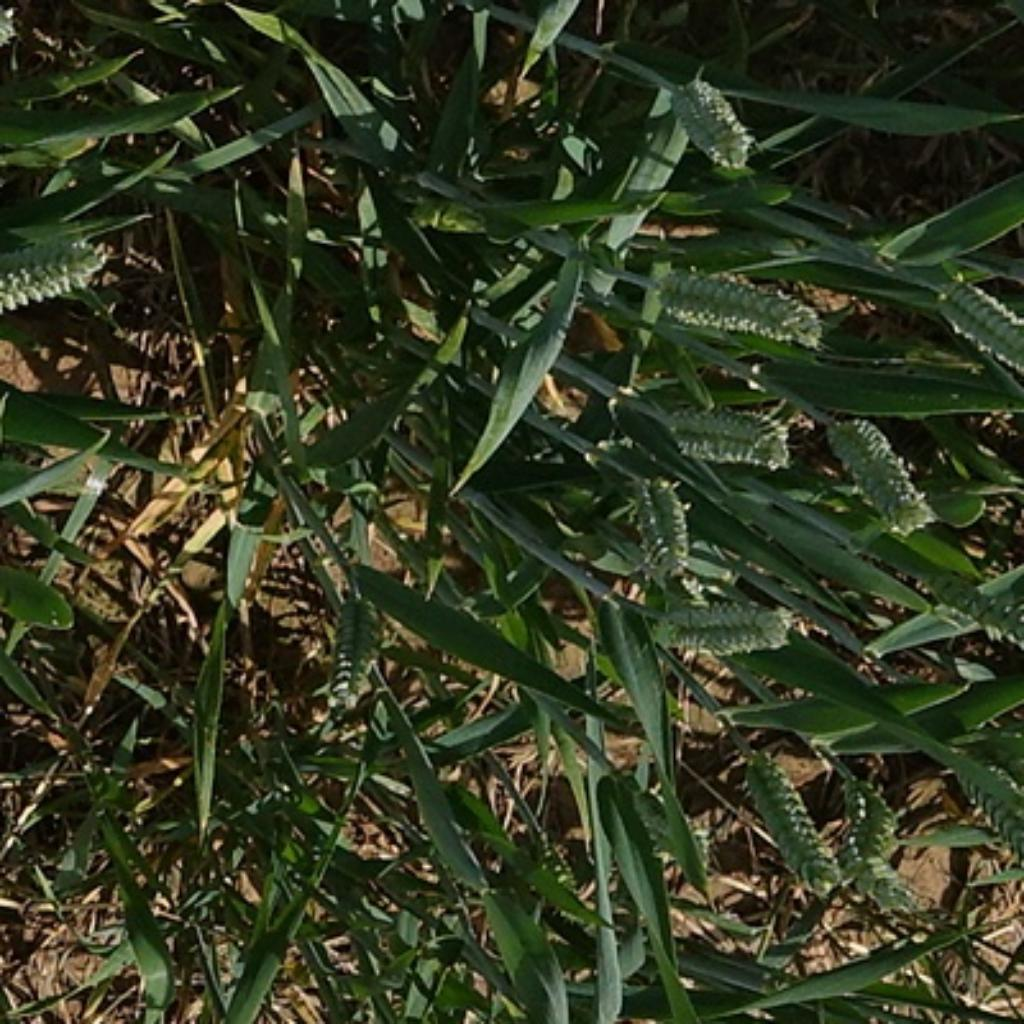0-0: (632, 258, 837, 348), (737, 739, 832, 885), (822, 412, 930, 532), (645, 586, 803, 660), (655, 394, 798, 473), (939, 729, 1024, 855), (916, 563, 1024, 660), (929, 258, 1024, 368), (318, 578, 392, 719), (667, 72, 767, 172), (622, 775, 721, 875), (0, 230, 116, 314), (837, 772, 906, 910), (616, 471, 698, 573), (523, 835, 590, 910)
